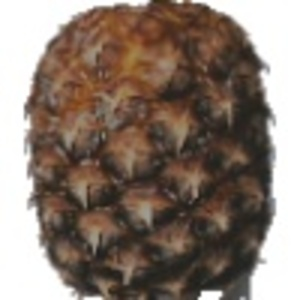abacaxi: (21, 1, 280, 296)
